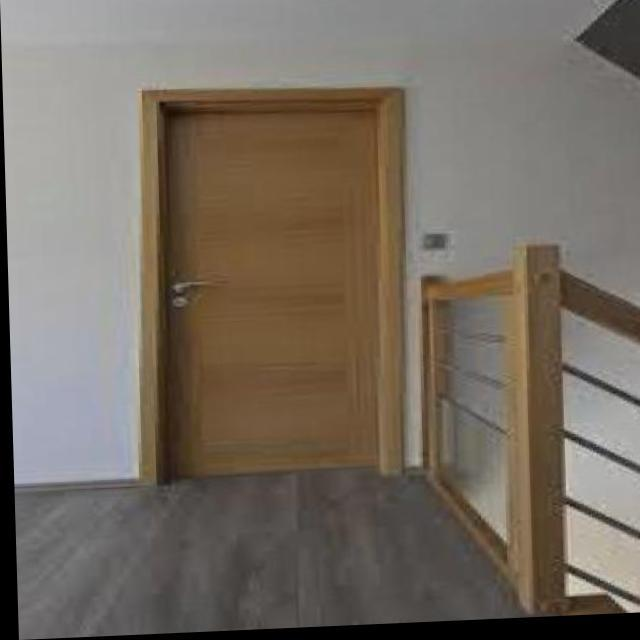door_handle: (158, 277, 231, 299)
